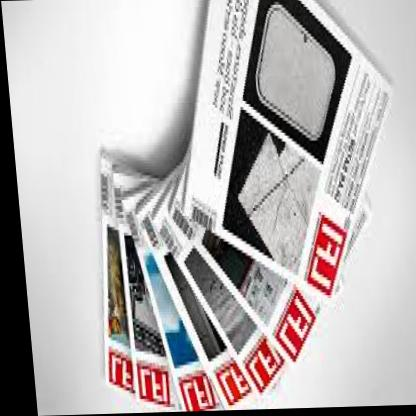Paper: (30, 0, 416, 415)
